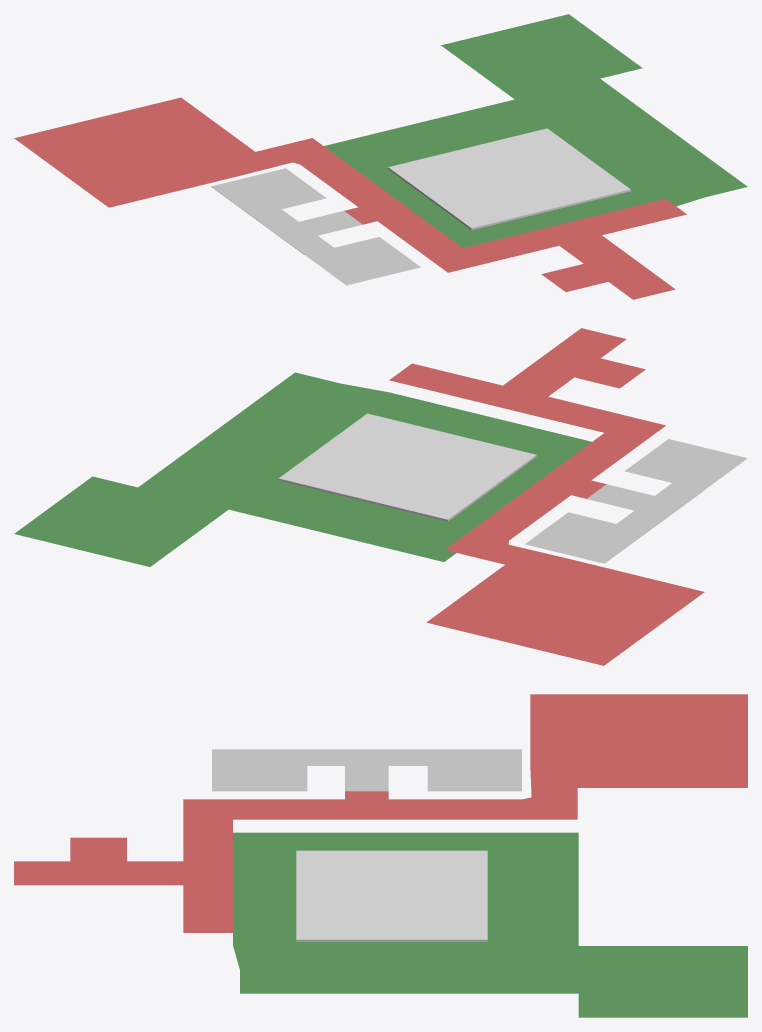
File: floor.glb
3 views of the same model, one above another, from view 1: azimuth 30°, elevation 25°; view 2: azimuth 150°, elevation 25°; view 3: azimuth 270°, elevation 25° (orthographic). The views are drawn at different scales.
Parts seen in each view (by area): view 1: Floor-Mat.4, Floor-Rug, Floor.001, Floor-Bathroom Tile; view 2: Floor-Mat.4, Floor-Rug, Floor.001, Floor-Bathroom Tile; view 3: Floor-Mat.4, Floor-Rug, Floor.001, Floor-Bathroom Tile.
Boxes of the visible parts, bbox=[...] form: Floor-Mat.4: bbox=[324, 14, 747, 247]; Floor-Rug: bbox=[14, 97, 686, 299]; Floor.001: bbox=[388, 128, 630, 230]; Floor-Bathroom Tile: bbox=[211, 168, 420, 285]; Floor-Mat.4: bbox=[14, 372, 591, 566]; Floor-Rug: bbox=[389, 328, 704, 665]; Floor.001: bbox=[278, 413, 536, 521]; Floor-Bathroom Tile: bbox=[525, 439, 747, 563]; Floor-Mat.4: bbox=[233, 832, 747, 1017]; Floor-Rug: bbox=[14, 694, 747, 932]; Floor.001: bbox=[296, 850, 487, 941]; Floor-Bathroom Tile: bbox=[212, 749, 521, 791].
Bounding box in the file's own units: 101 × 1.95 × 101.
